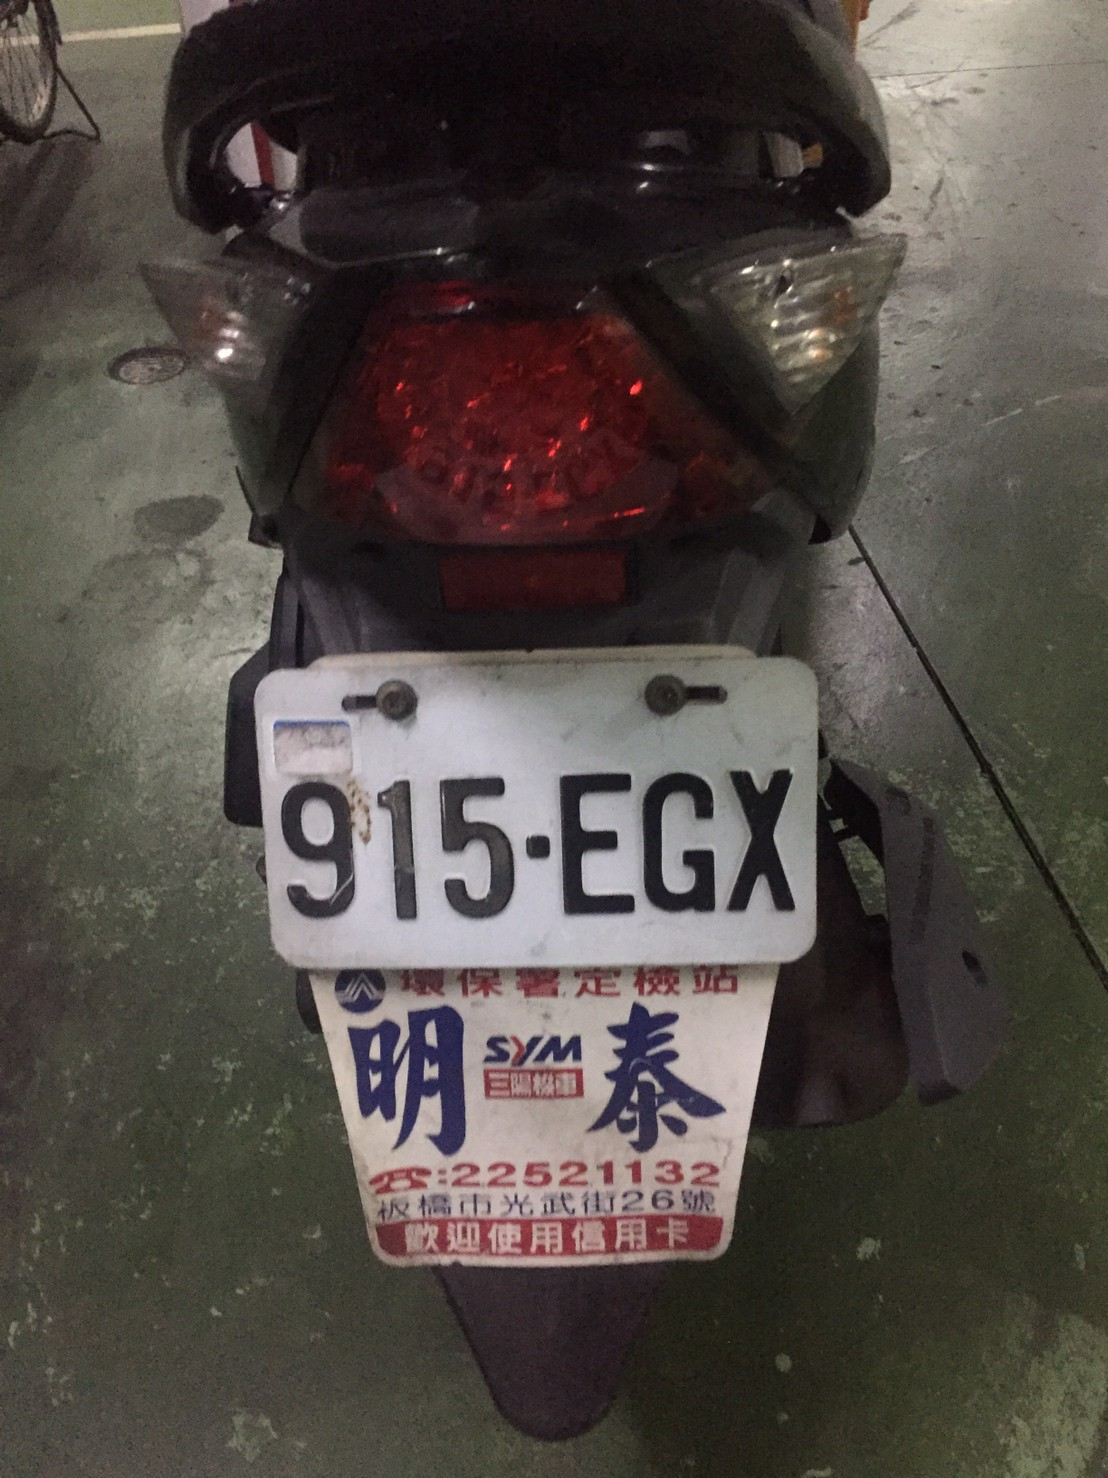LP: (256, 665, 822, 967)
